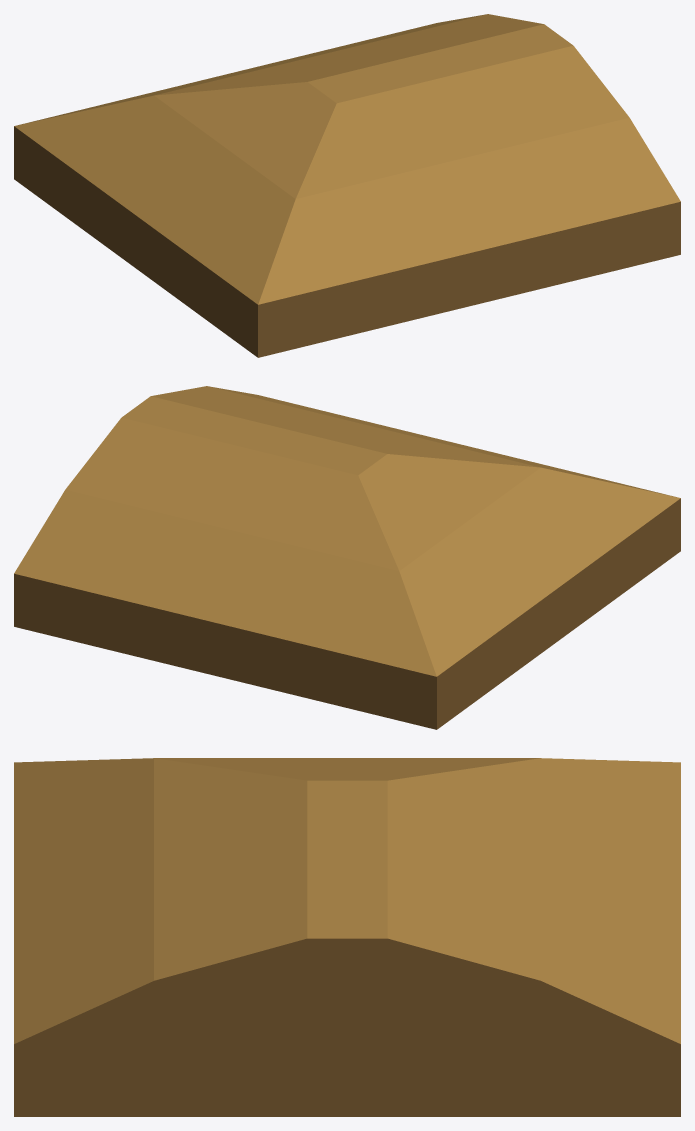
The model's file is crown_end.glb.
3 views of the same model, one above another, from view 1: azimuth 30°, elevation 25°; view 2: azimuth 150°, elevation 25°; view 3: azimuth 270°, elevation 25° (orthographic). The views are drawn at different scales.
Parts seen in each view (by area): view 1: Crown end; view 2: Crown end; view 3: Crown end.
Boxes of the visible parts, bbox=[...] form: Crown end: bbox=[14, 14, 680, 357]; Crown end: bbox=[14, 386, 680, 729]; Crown end: bbox=[14, 758, 680, 1116].
Bounding box in the file's own units: 1 × 0.295 × 1.
